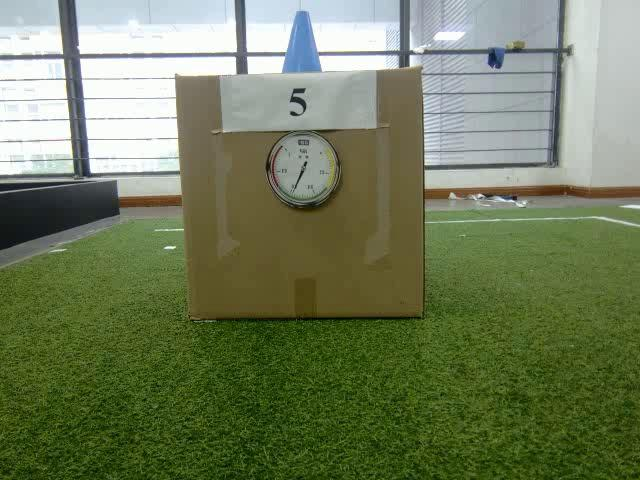5: (287, 86, 309, 118)
Dashboard: (268, 130, 342, 211)
blue_barrel: (282, 9, 324, 73)
ssi: (297, 138, 312, 145)
